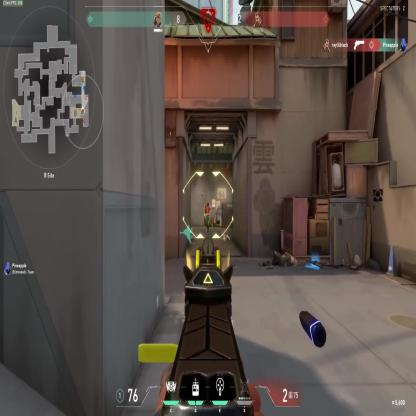enemy: (204, 202, 209, 232)
enemy_head: (204, 204, 206, 207)
